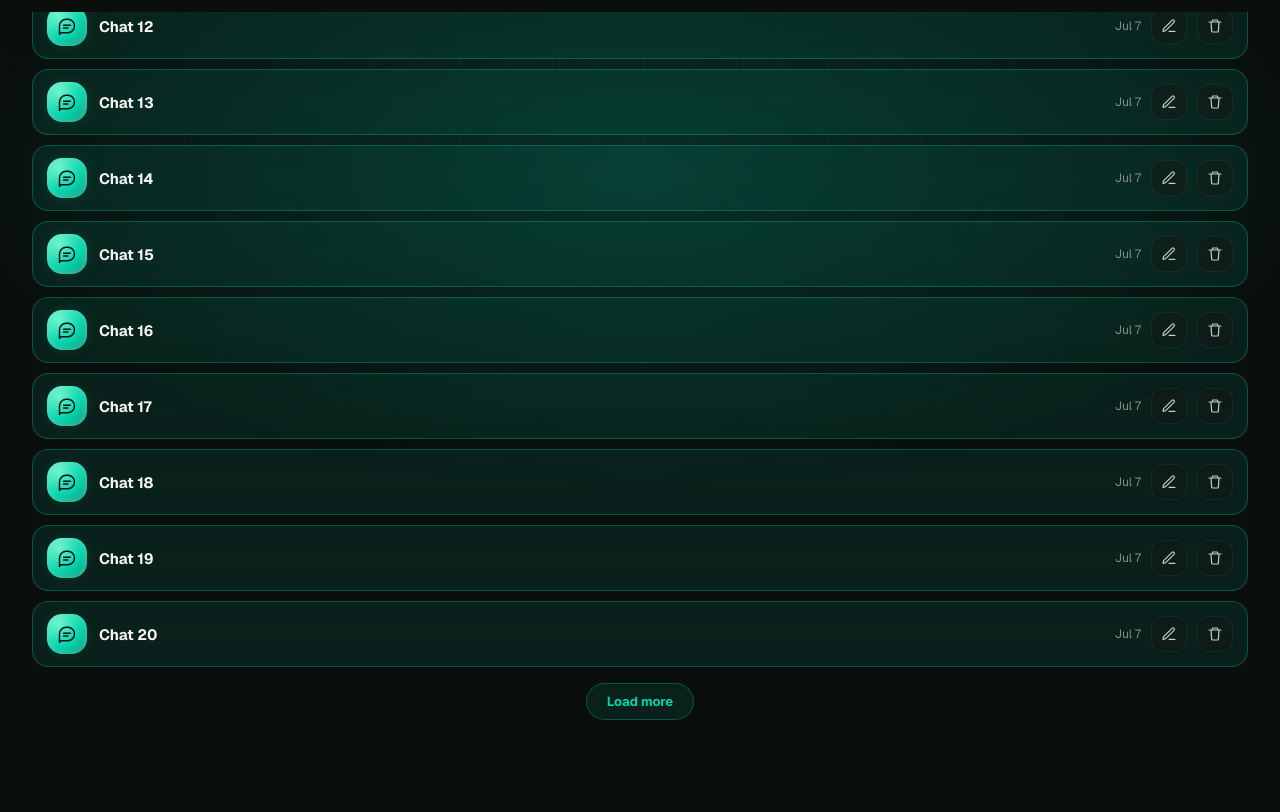
Scenario: Conversations page › loads the next page when "Load more" is tapped
(page scrolled)
Expected: the text "Chat 21" is not shown
Click the button "Load more".
click(640, 702)  # box x1=586 y1=683 x2=694 y2=720
(page scrolled)
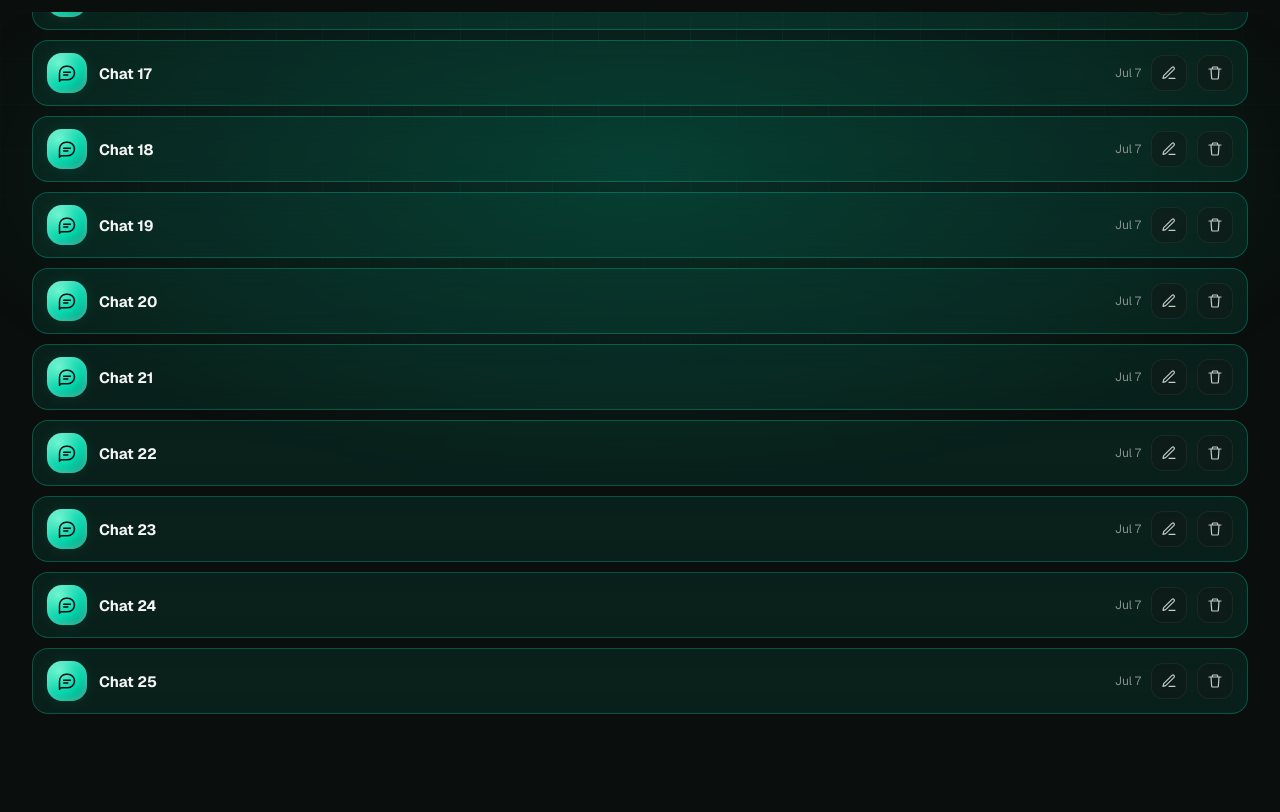
Expected: the text "Chat 25" is shown, x1=99 y1=672 x2=157 y2=690
Expected: the button "Load more" is gone
